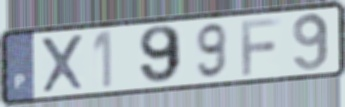1: (89, 28, 114, 92)
9: (138, 23, 187, 87), (290, 11, 330, 72), (193, 20, 230, 80)
F: (238, 16, 283, 78)
X: (38, 32, 87, 96)
